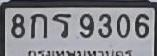0: (116, 13, 129, 37)
3: (97, 13, 111, 37)
6: (134, 13, 148, 37)
8: (10, 13, 24, 37)
9: (79, 13, 93, 37)
A01: (30, 12, 46, 38)
A35: (52, 13, 70, 37)
